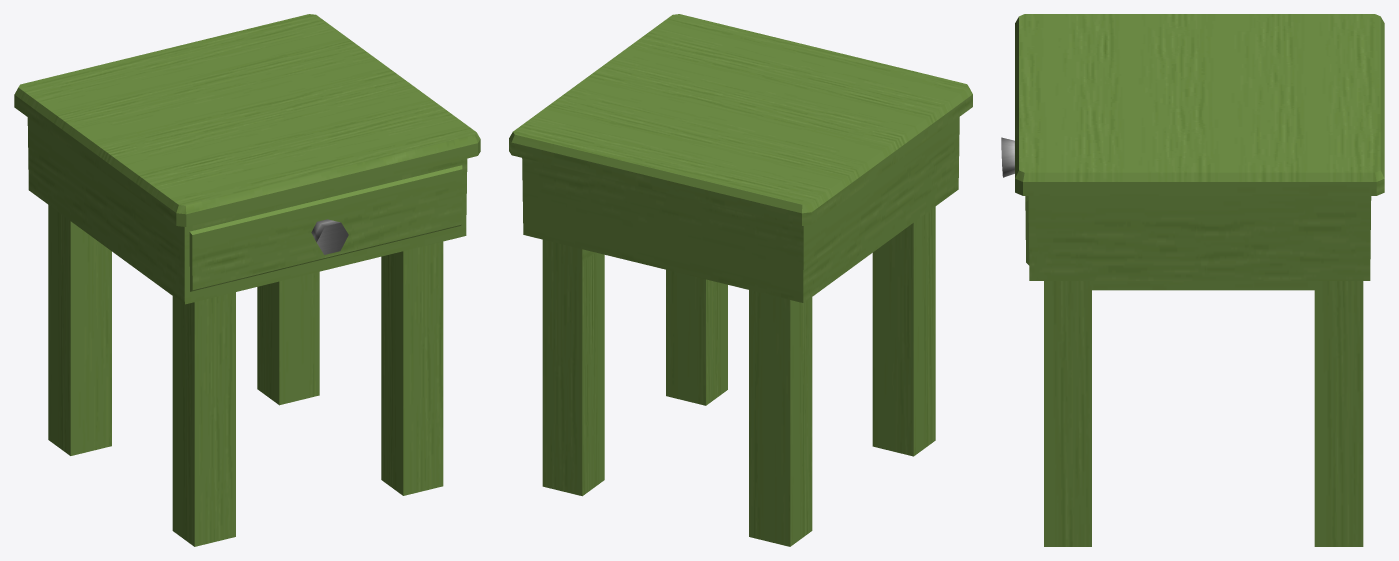
The model's file is Basic_Endtable_D.FBX.
3 views of the same model, side by side, from view 1: azimuth 30°, elevation 25°; view 2: azimuth 150°, elevation 25°; view 3: azimuth 270°, elevation 25° (orthographic). The views are drawn at different scales.
Parts seen in each view (by area): view 1: End Table; view 2: End Table; view 3: End Table.
Part boxes in pixels (x1,y1,x2,y2): End Table: [14, 14, 480, 546]; End Table: [509, 14, 972, 546]; End Table: [1001, 14, 1384, 546].
Size of the model in its own units: 88.66 by 98.76 by 88.61.
